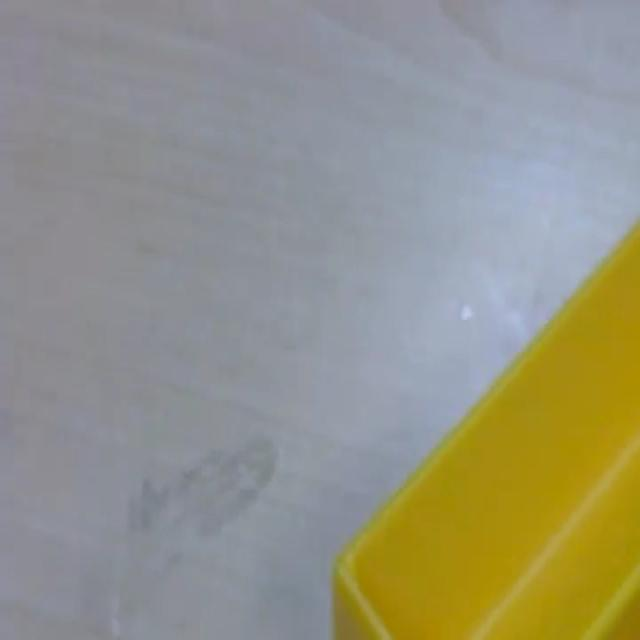yellow_block: (331, 218, 638, 638)
